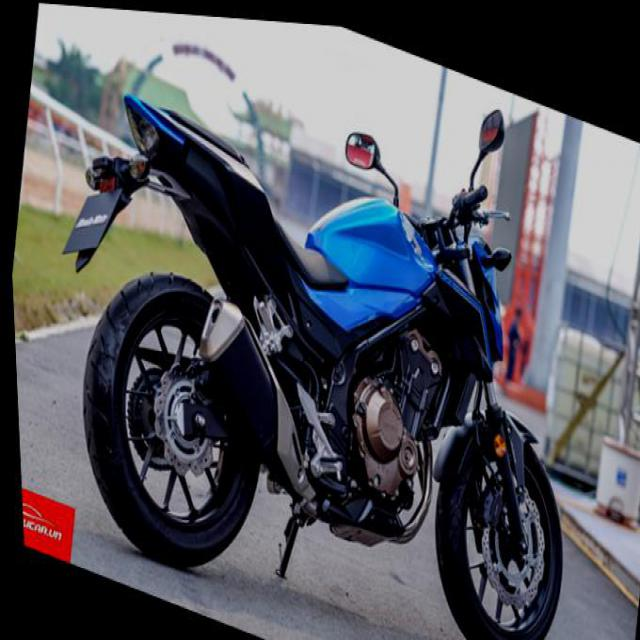CB500F: (11, 0, 623, 639)
